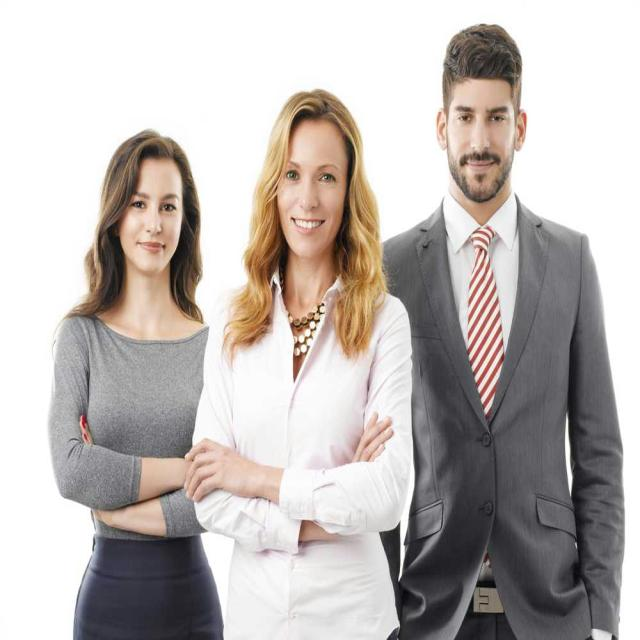adult: (378, 22, 626, 640), (182, 89, 412, 640), (50, 129, 224, 640)
